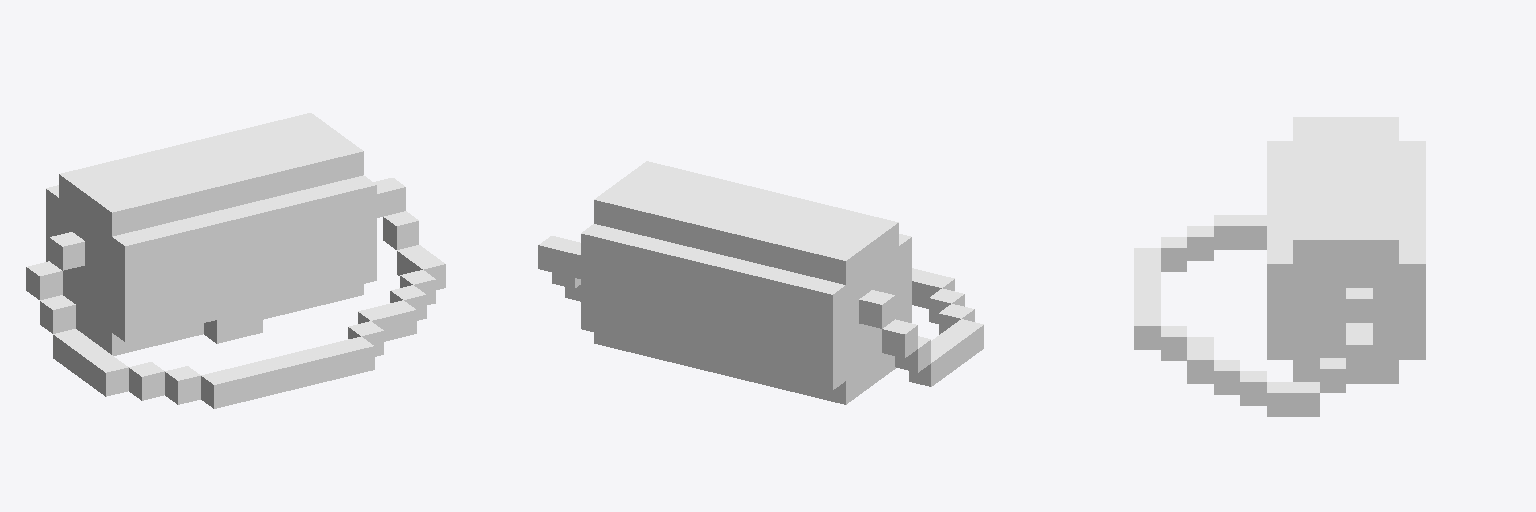
Rendered from luggage_green.obj.
The picture shows the model from 3 angles: view 1: azimuth 30°, elevation 25°; view 2: azimuth 150°, elevation 25°; view 3: azimuth 270°, elevation 25°; orthographic projection.
Visible parts, largest first — view 1: luggage_green; view 2: luggage_green; view 3: luggage_green.
Part boxes in pixels (x1,y1,x2,y2): luggage_green: (26,113,445,408); luggage_green: (538,161,983,404); luggage_green: (1134,117,1425,416).
Bounding box in the file's own units: 16 × 6 × 11.